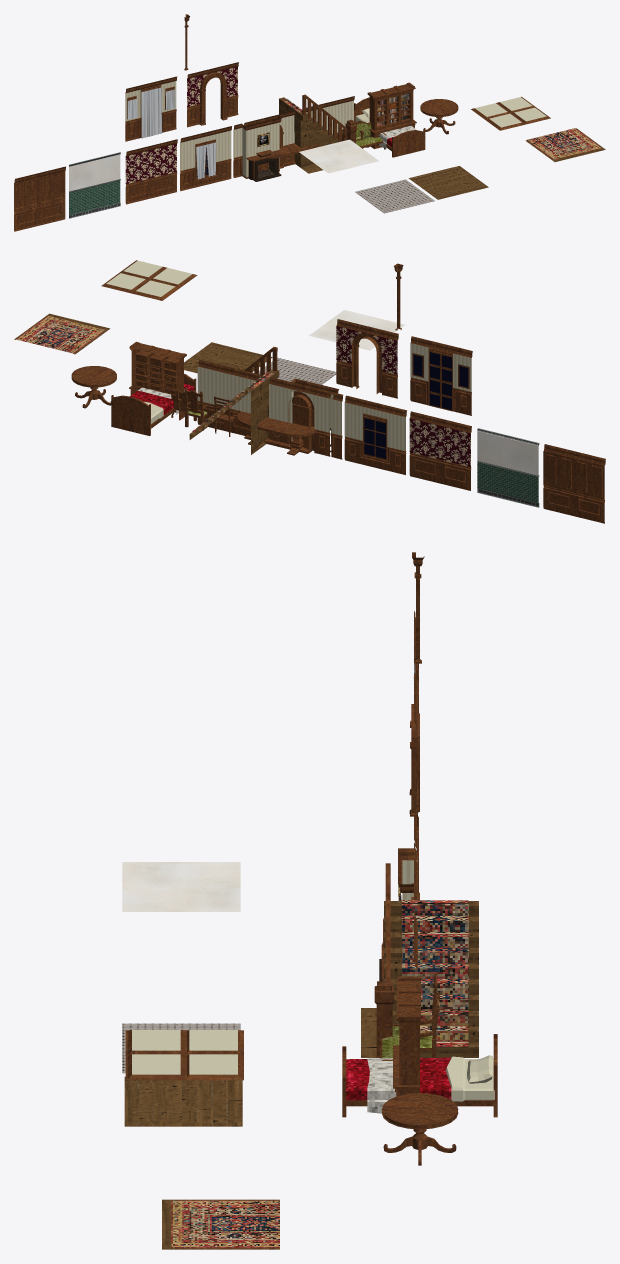
File: models.glb
3 views of the same model, one above another, from view 1: azimuth 30°, elevation 25°; view 2: azimuth 150°, elevation 25°; view 3: azimuth 270°, elevation 25° (orthographic). The views are drawn at different scales.
Visible parts, largest first — view 1: Wall.Batthroom, Wall.FrontDoor, Wall.Window, Wall.Wood, Plane.004, Fireplace, Stairs, Wall.Arch.RedWallpaper, Cabinet, Plane.002, Floor.Tiles, Ceiling (+8 smaller); view 2: Wall.FrontDoor, Wall.Wood, Wall.Window, Plane.004, Wall.Batthroom, Wall.Arch.RedWallpaper, Plane, Cabinet, Bed_Single, Plane.003, Stairs, Ceiling (+9 smaller); view 3: Stairs, Bed_Single, Ceiling, Plane.002, Ceiling.Plaster, Plane.001, Table_RoundSmall2, Cabinet, Wall.Arch.RedWallpaper, Floor.Tiles, Fireplace.
Part boxes in pixels (x1,y1,x2,y2): Wall.Batthroom: (69, 152, 120, 218); Wall.FrontDoor: (125, 76, 177, 141); Wall.Window: (180, 126, 231, 191); Wall.Wood: (14, 166, 65, 231); Plane.004: (125, 139, 177, 204); Fireplace: (233, 113, 285, 181); Stairs: (279, 94, 356, 173); Wall.Arch.RedWallpaper: (187, 62, 238, 127); Cabinet: (367, 82, 416, 149); Plane.002: (525, 128, 605, 161); Floor.Tiles: (355, 179, 434, 213); Ceiling: (471, 96, 550, 130); Wall.FrontDoor: (410, 336, 472, 415); Wall.Wood: (543, 444, 605, 523); Wall.Window: (344, 395, 406, 474); Plane.004: (409, 411, 471, 490); Wall.Batthroom: (477, 428, 539, 507); Wall.Arch.RedWallpaper: (336, 319, 398, 398); Plane: (197, 359, 260, 435); Cabinet: (129, 341, 186, 420); Bed_Single: (111, 373, 196, 435); Plane.003: (269, 377, 331, 456); Stairs: (189, 346, 279, 454); Ceiling: (101, 260, 197, 300); Stairs: (361, 863, 478, 1057); Bed_Single: (342, 1034, 497, 1117); Ceiling: (125, 1030, 243, 1080); Plane.002: (162, 1199, 279, 1249); Ceiling.Plaster: (122, 862, 240, 911); Plane.001: (124, 1076, 242, 1126); Table_RoundSmall2: (381, 1093, 458, 1165); Cabinet: (393, 976, 420, 1096); Wall.Arch.RedWallpaper: (409, 672, 419, 826); Floor.Tiles: (122, 1023, 240, 1073); Fireplace: (379, 842, 417, 981).
Size of the model in its own units: 30.94 by 9.79 by 9.53.
Materials: 19 (18 with a texture image).
